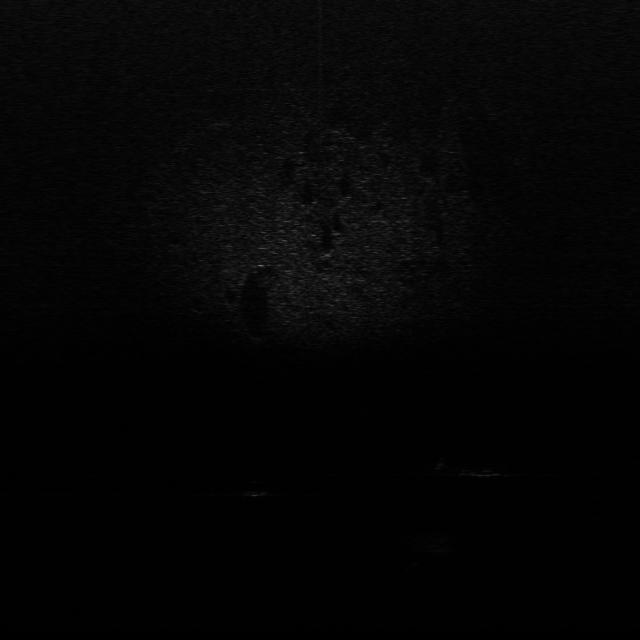ball: (234, 480, 270, 502)
circle cage: (404, 528, 454, 563)
human body: (433, 454, 517, 479)
